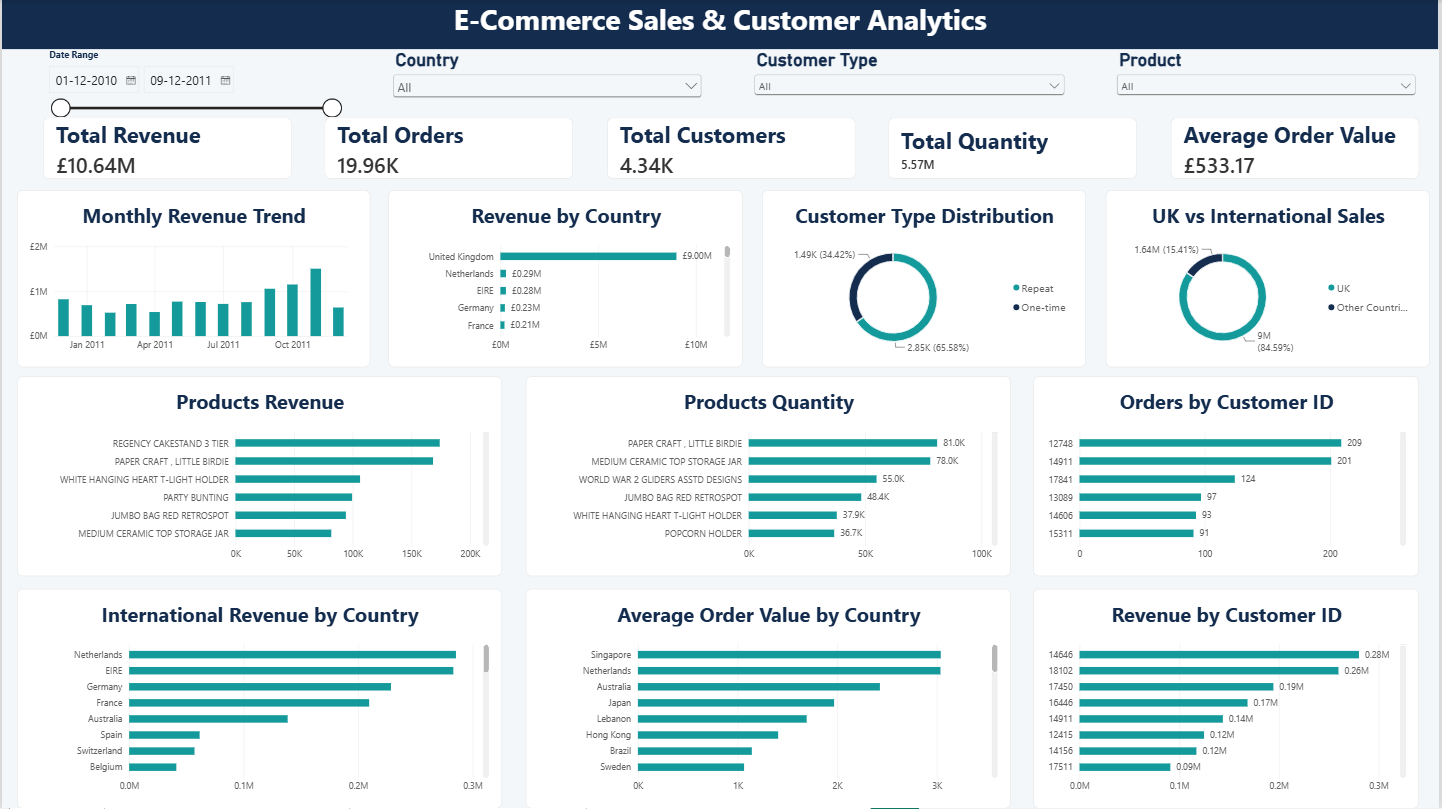

This screenshot's page, from the dashboard's own definition file:
{"tool":"powerbi","page":{"name":"E-Commerce Executive Dashboard ","canvas":[1920,1080],"ordinal":3},"visuals":[{"type":"cardVisual","fields":{"Data":["ecommerce_cleaned.Total Revenue"]},"box":[54.3,156.5,332.6,82.6],"z":0},{"type":"cardVisual","fields":{"Data":["ecommerce_cleaned.Total Orders"]},"box":[431,156.5,332.6,82.6],"z":1000},{"type":"cardVisual","fields":{"Data":["ecommerce_cleaned.Total Customers"]},"box":[807.6,156.5,332.6,82.6],"z":2000},{"type":"cardVisual","fields":{"Data":["ecommerce_cleaned.Total Quantity"]},"box":[1184.2,156.5,332.6,82.6],"z":3000},{"type":"cardVisual","fields":{"Data":["ecommerce_cleaned.Average Order Value"]},"box":[1560.9,156.5,332.6,82.6],"z":4000},{"type":"textbox","box":[0,0,1918.8,65.6],"z":5000},{"type":"slicer","title":"Date Range","fields":{"Values":["ecommerce_cleaned.InvoiceDate"]},"box":[54.3,65.2,402.2,91.3],"z":6000},{"type":"slicer","title":"Country","fields":{"Values":["ecommerce_cleaned.Country"]},"box":[517.4,65.2,421.7,91.3],"z":7000},{"type":"slicer","title":"Customer Type","fields":{"Values":["customer_summary.Customer_Type"]},"box":[1000,65.2,423.9,91.3],"z":8000},{"type":"slicer","fields":{"Values":["ecommerce_cleaned.Description"]},"box":[1484.8,65.2,408.7,91.3],"z":9000},{"type":"lineClusteredColumnComboChart","title":"Monthly Revenue Trend","fields":{"Category":["ecommerce_cleaned.MonthYear"],"Y":["ecommerce_cleaned.Total Revenue"]},"box":[19.6,254.3,471.7,237],"z":10000},{"type":"clusteredBarChart","title":"Revenue by Country","fields":{"Category":["ecommerce_cleaned.Country"],"Y":["ecommerce_cleaned.Total Revenue"]},"box":[516.7,254.3,473.9,237],"z":11000},{"type":"clusteredBarChart","title":"Products Revenue","fields":{"Category":["ecommerce_cleaned.Description"],"Y":["ecommerce_cleaned.Product Revenue"]},"box":[19.6,502.2,647.8,267.4],"z":12000},{"type":"clusteredBarChart","title":"Products Quantity","fields":{"Category":["ecommerce_cleaned.Description"],"Y":["Sum(ecommerce_cleaned.Quantity)"]},"box":[698.9,502.2,647.8,267.4],"z":13000},{"type":"clusteredBarChart","title":"Revenue by Customer ID","fields":{"Category":["customer_summary.CustomerID"],"Y":["Sum(customer_summary.Total_Revenue)"]},"box":[1378.3,787,515.2,293.5],"z":14000},{"type":"clusteredBarChart","title":"Orders by Customer ID","fields":{"Category":["customer_summary.CustomerID"],"Y":["Sum(customer_summary.Total_Orders)"]},"box":[1378.3,502.2,515.2,267.4],"z":15000},{"type":"donutChart","title":"Customer Type Distribution","fields":{"Category":["customer_summary.Customer_Type"],"Y":["CountNonNull(customer_summary.CustomerID)"]},"box":[1015.9,254.3,432.6,237],"z":16000},{"type":"donutChart","title":"UK vs International Sales","fields":{"Category":["ecommerce_cleaned.Market"],"Y":["Sum(ecommerce_cleaned.Revenue)"]},"box":[1473.9,254.3,432.6,237],"z":17000},{"type":"clusteredBarChart","title":"International Revenue by Country","fields":{"Category":["ecommerce_cleaned.Country"],"Y":["Sum(ecommerce_cleaned.Revenue)"]},"box":[19.6,787,647.8,293.5],"z":19000},{"type":"clusteredBarChart","title":"Average Order Value by Country","fields":{"Category":["ecommerce_cleaned.Country"],"Y":["ecommerce_cleaned.Country AOV"]},"box":[698.9,787,647.8,293.5],"z":21000}]}

Visuals, with their boxes in screenshot pixels (x1, y1, x2, y2), scaled from the page's 1920x1080 canvas onto the 1442x809 screenshot:
cardVisual - ecommerce_cleaned.Total Revenue: x1=41, y1=117, x2=291, y2=179
cardVisual - ecommerce_cleaned.Total Orders: x1=324, y1=117, x2=573, y2=179
cardVisual - ecommerce_cleaned.Total Customers: x1=607, y1=117, x2=856, y2=179
cardVisual - ecommerce_cleaned.Total Quantity: x1=889, y1=117, x2=1139, y2=179
cardVisual - ecommerce_cleaned.Average Order Value: x1=1172, y1=117, x2=1422, y2=179
textbox: x1=0, y1=0, x2=1441, y2=49
"Date Range" slicer: x1=41, y1=49, x2=343, y2=117
"Country" slicer: x1=389, y1=49, x2=705, y2=117
"Customer Type" slicer: x1=751, y1=49, x2=1069, y2=117
slicer - ecommerce_cleaned.Description: x1=1115, y1=49, x2=1422, y2=117
"Monthly Revenue Trend" lineClusteredColumnComboChart: x1=15, y1=190, x2=369, y2=368
"Revenue by Country" clusteredBarChart: x1=388, y1=190, x2=744, y2=368
"Products Revenue" clusteredBarChart: x1=15, y1=376, x2=501, y2=576
"Products Quantity" clusteredBarChart: x1=525, y1=376, x2=1011, y2=576
"Revenue by Customer ID" clusteredBarChart: x1=1035, y1=590, x2=1422, y2=808
"Orders by Customer ID" clusteredBarChart: x1=1035, y1=376, x2=1422, y2=576
"Customer Type Distribution" donutChart: x1=763, y1=190, x2=1088, y2=368
"UK vs International Sales" donutChart: x1=1107, y1=190, x2=1432, y2=368
"International Revenue by Country" clusteredBarChart: x1=15, y1=590, x2=501, y2=808
"Average Order Value by Country" clusteredBarChart: x1=525, y1=590, x2=1011, y2=808
